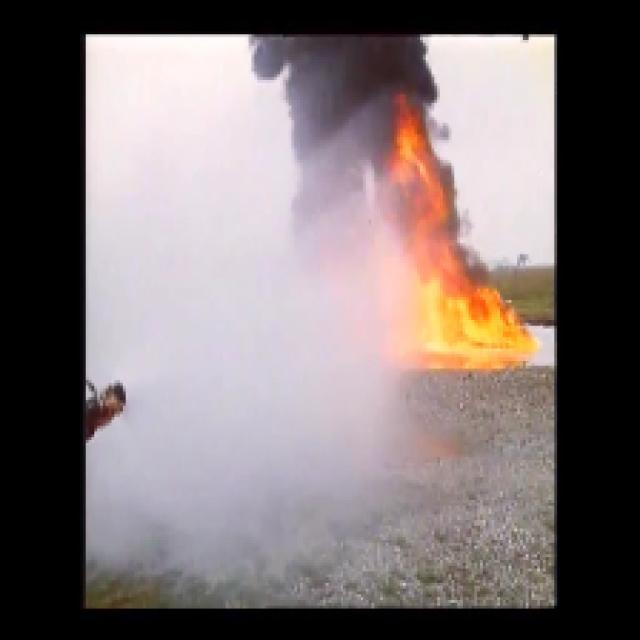Fire: (386, 106, 532, 366)
Smoke: (260, 37, 429, 140)
